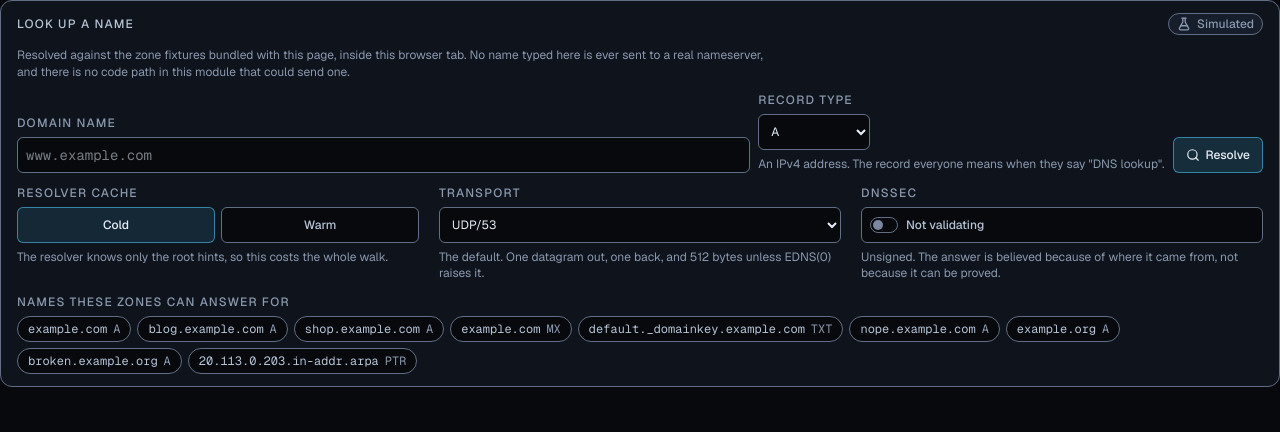
DomainInput › shows the reason a name was rejected, and submits nothing
Type "not a host.example.com" into the field labelled "Domain name" at (384, 154), box [17,136,750,172]
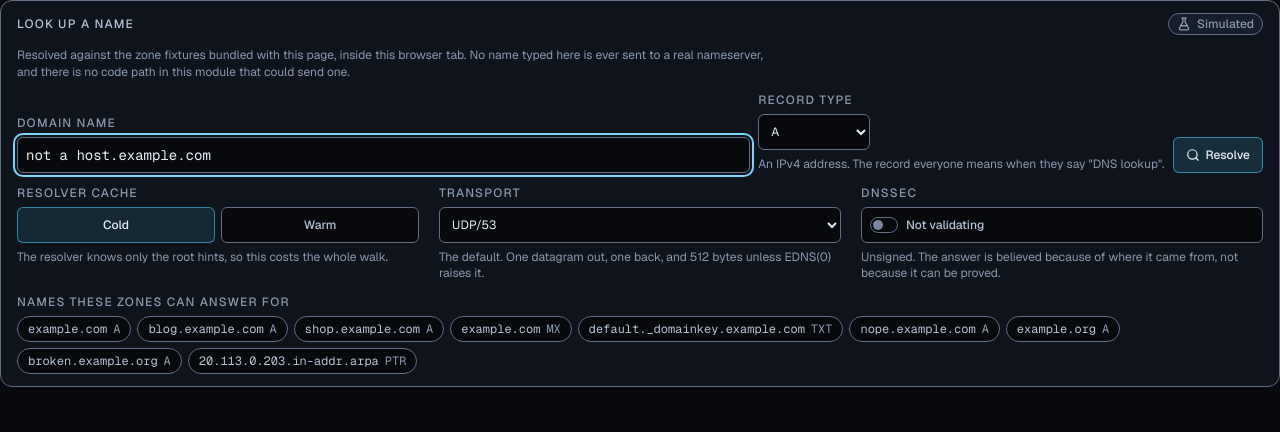
Click the button "Resolve" at (1218, 154), box [1172,136,1263,172]
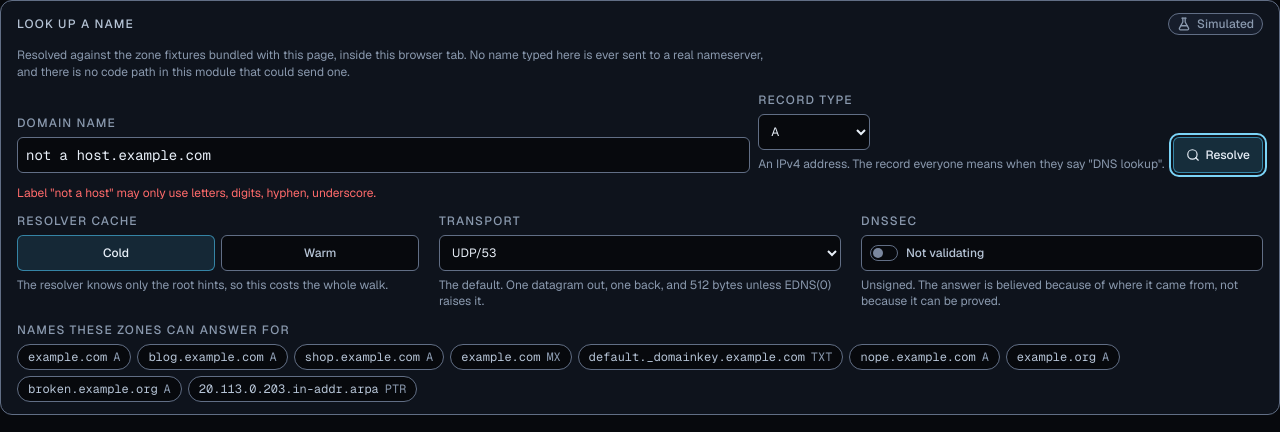
Result: the message shows "not a host" at [17,184,376,200]
